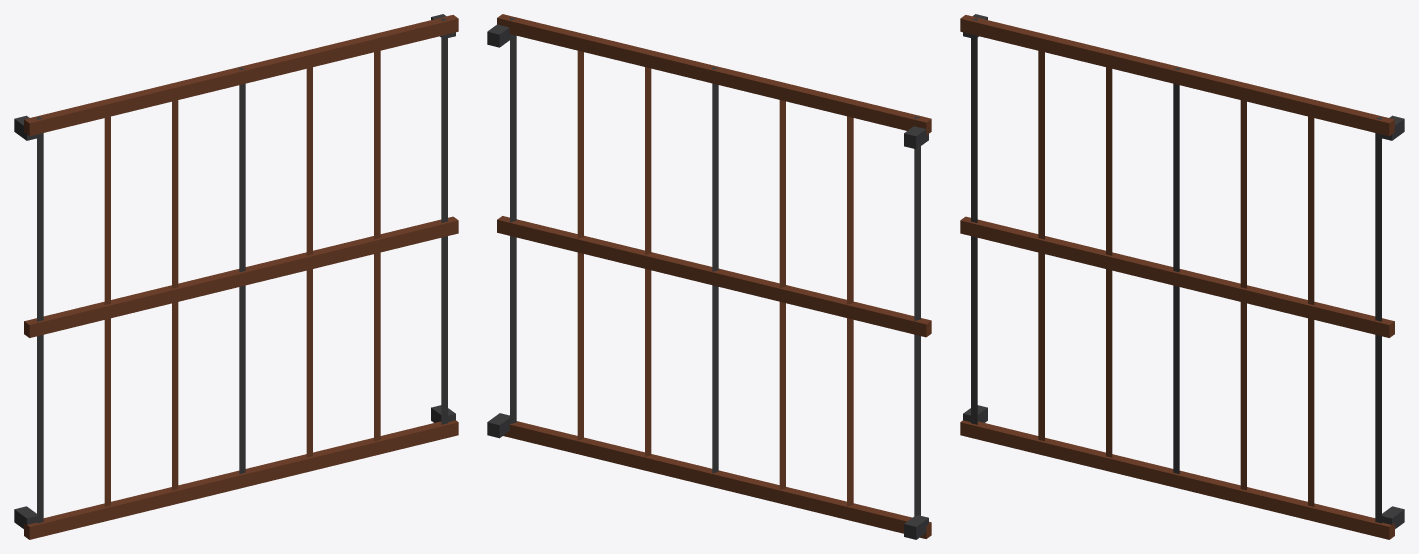
The model's file is window_bars.glb.
3 views of the same model, side by side, from view 1: azimuth 30°, elevation 25°; view 2: azimuth 150°, elevation 25°; view 3: azimuth 330°, elevation 25° (orthographic).
Parts seen in each view (by area): view 1: window_bars; view 2: window_bars; view 3: window_bars.
Boxes of the visible parts, x1,y1,x2,y2 form: window_bars: (14, 14, 458, 539); window_bars: (487, 14, 931, 539); window_bars: (960, 14, 1404, 539).
Bounding box in the file's own units: 1.38 × 1.28 × 0.085.
1 material, 1 textured.
